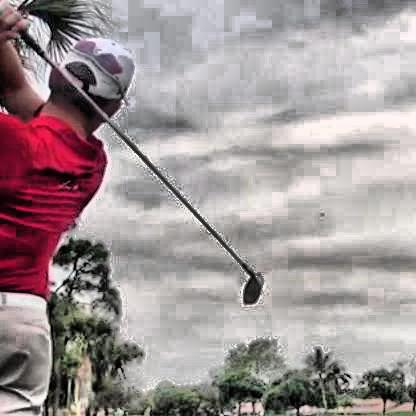golfball: (314, 207, 324, 215)
